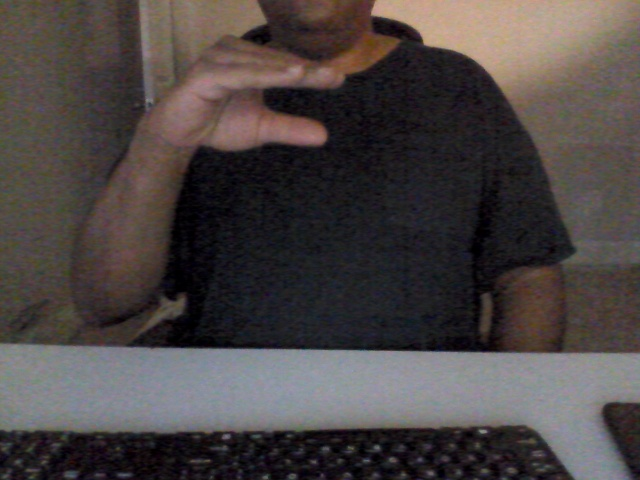no: (141, 33, 349, 161)
